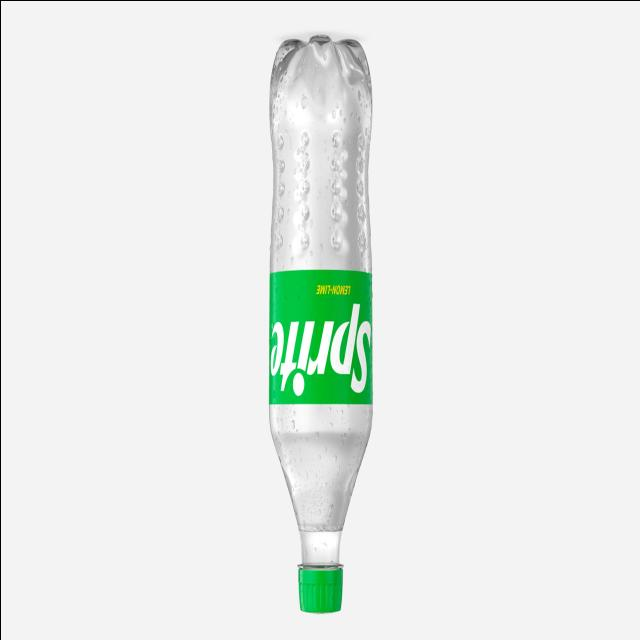bottom: (263, 35, 379, 128)
cap: (290, 557, 346, 611)
